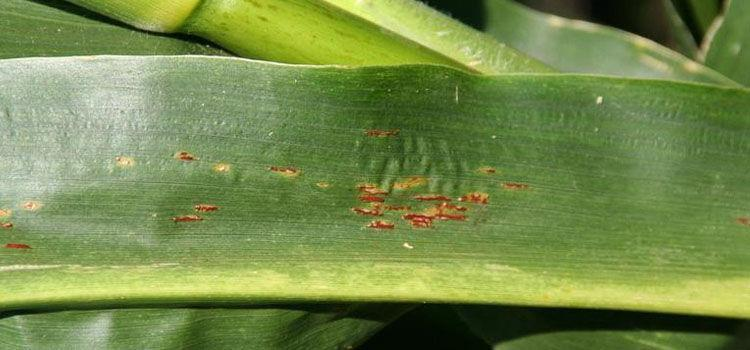Corn_Common_Rust: (317, 164, 536, 237), (108, 146, 309, 186), (0, 189, 50, 258), (165, 196, 227, 224), (361, 121, 405, 144), (727, 209, 750, 234)
